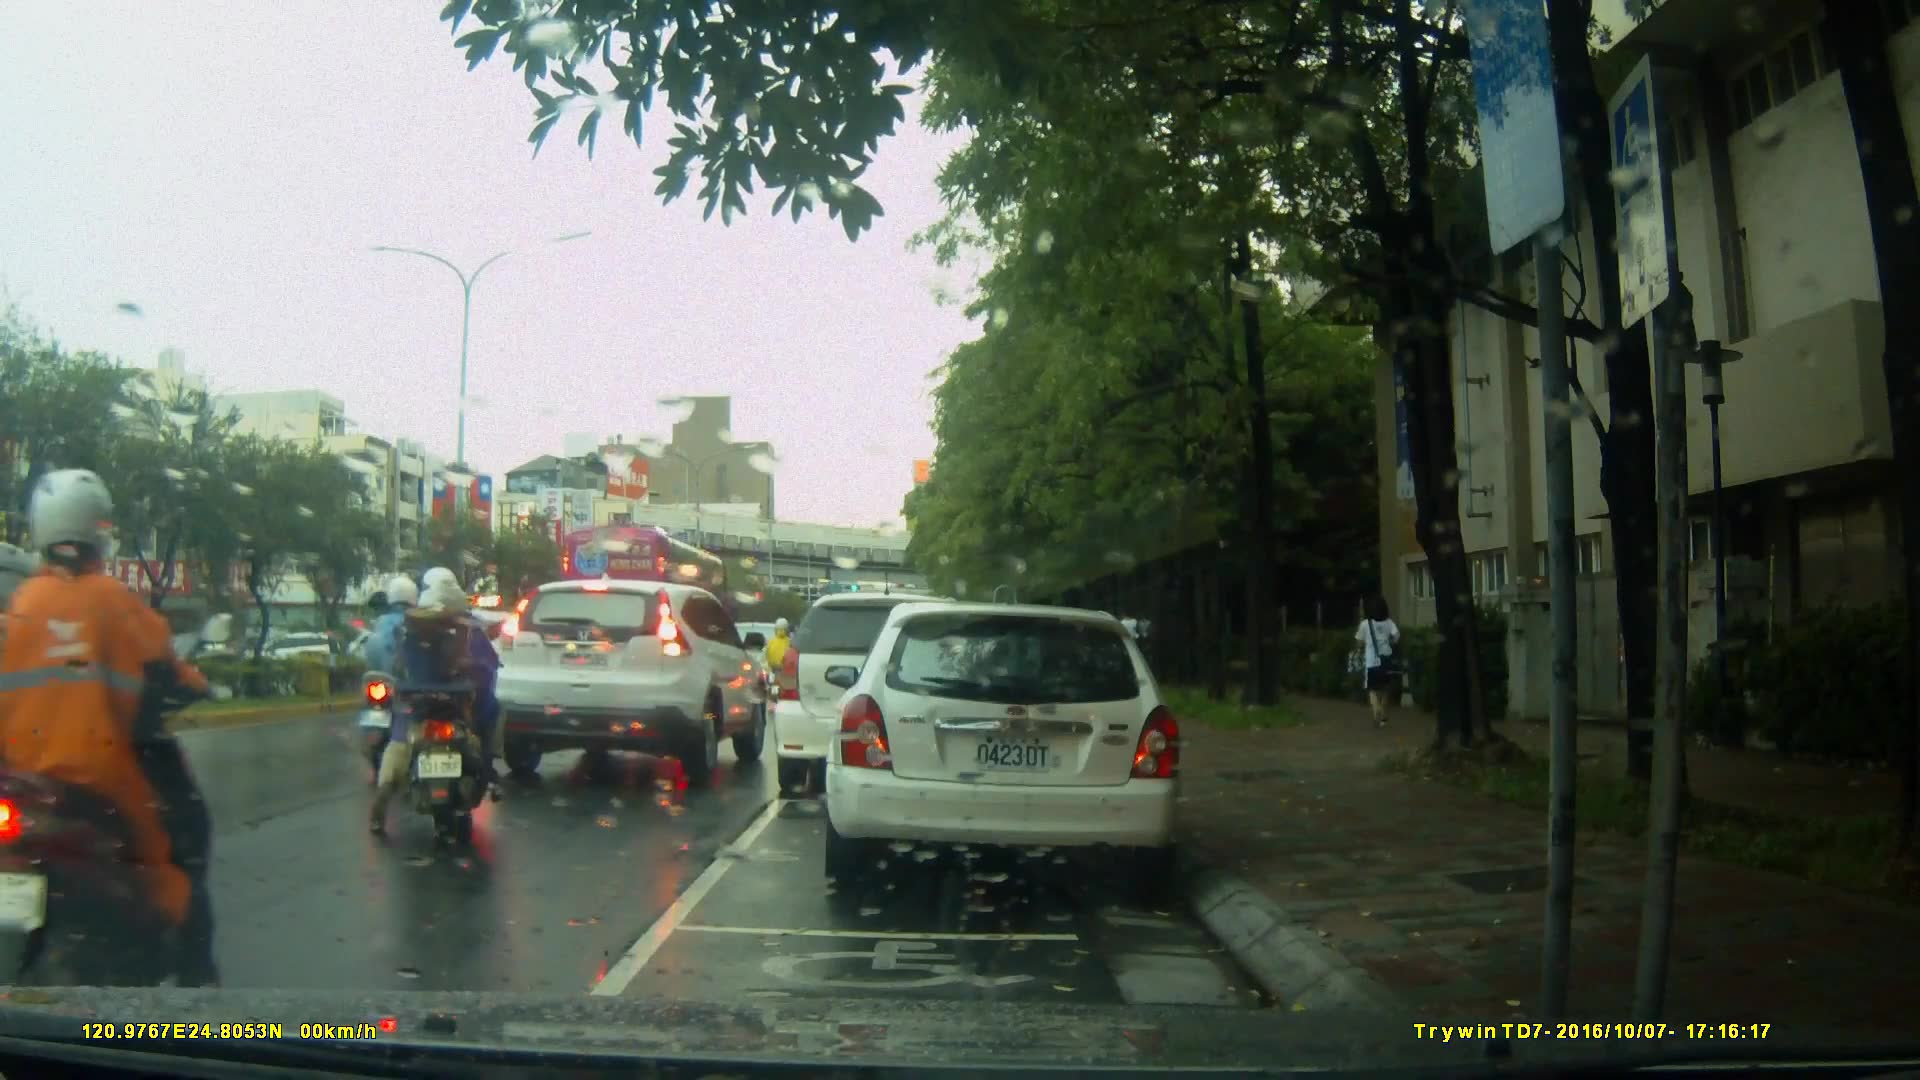pedestrian: (1342, 585, 1409, 745), (1117, 602, 1153, 690)
rider: (1, 467, 247, 1019), (363, 568, 515, 833), (354, 582, 436, 787), (764, 614, 796, 712)
vehicle: (835, 594, 1194, 898), (490, 580, 777, 786), (776, 590, 1026, 784), (556, 524, 731, 637)
